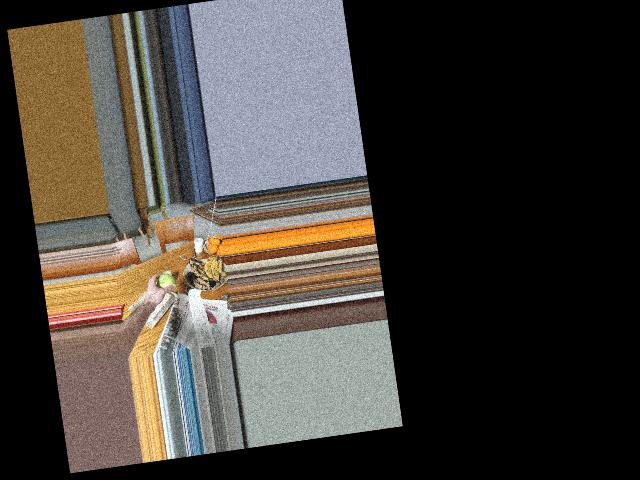apple: (153, 270, 177, 294)
